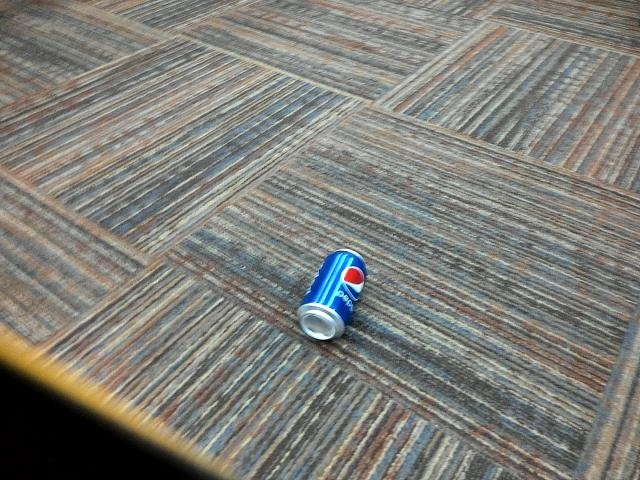can: (294, 247, 367, 343)
